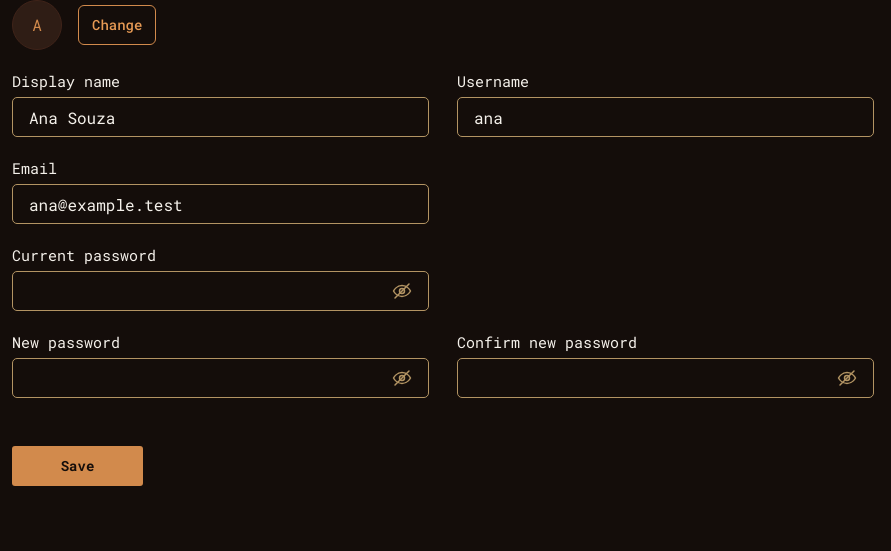
it: ProfileEditor (en) › validacao no submit: erro associado, aria-invalid e foco no primeiro invalido
This screenshot has width=891, height=551.
Clear the field labelled "Display name" at point(220, 117), box [29, 106, 412, 128]
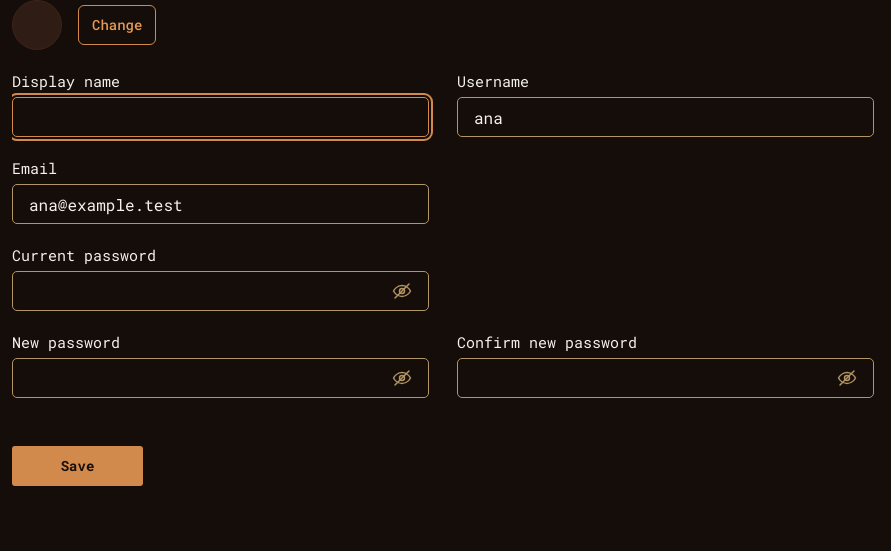
Replace the text in the field labelled "Email" with "x" at point(220, 204), box [29, 194, 412, 214]
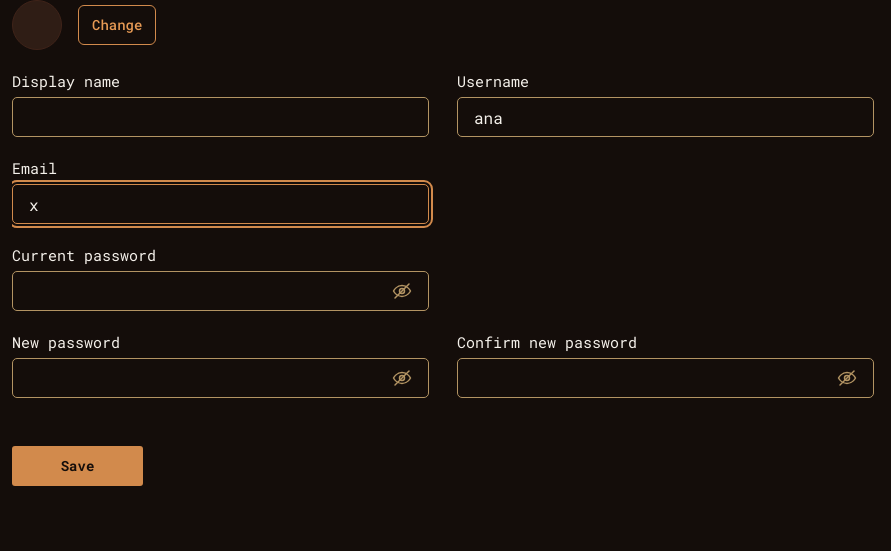
Click the button "Save" at point(78, 466), box [12, 446, 143, 486]
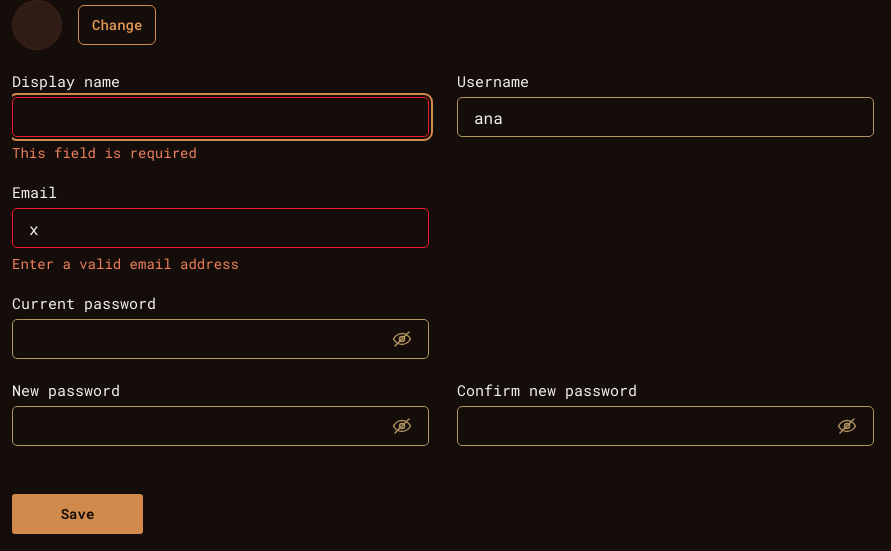
Check: the text "This field is required" is shown, box [12, 143, 197, 162]
Check: the text "Enter a valid email address" is shown, box [12, 254, 239, 273]
